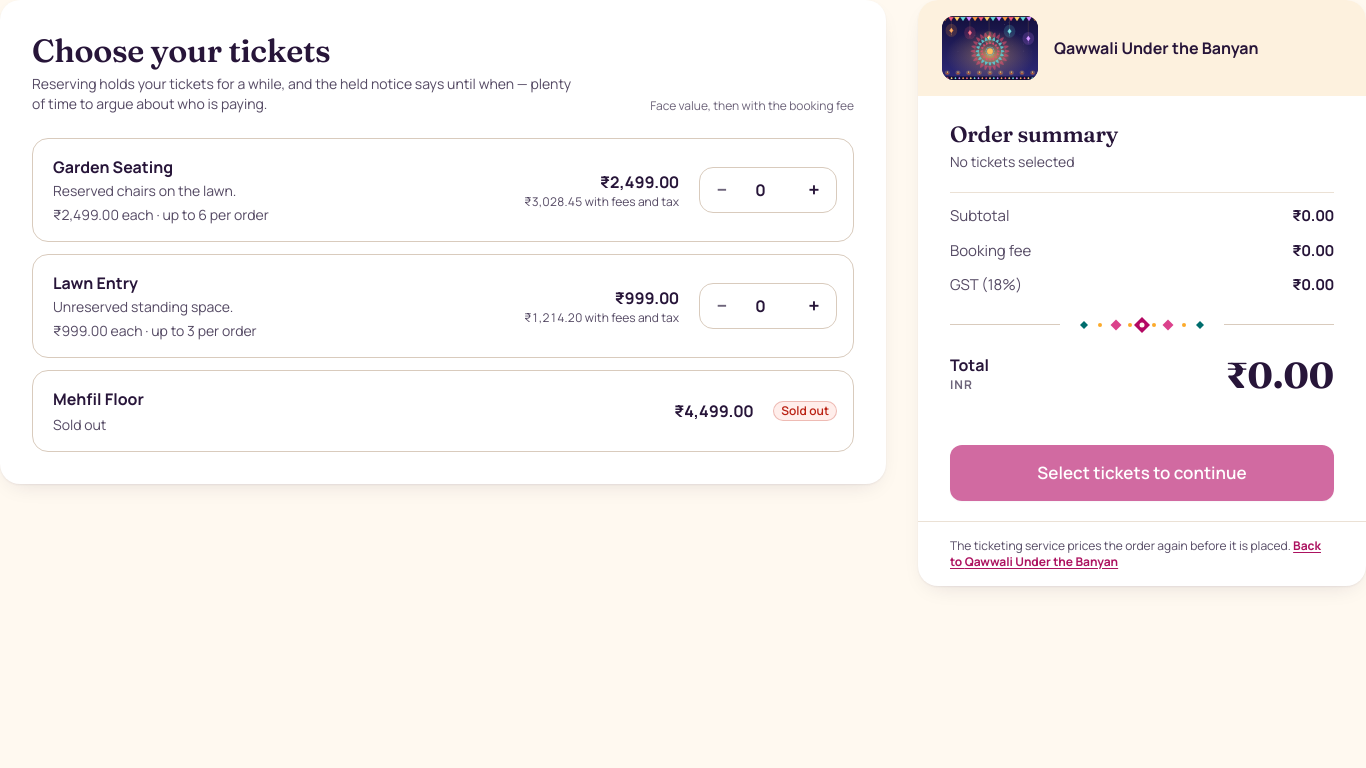
Test: CheckoutBasket › removes the line again when the quantity goes back to zero
The width and height of the screenshot is (1366, 768).
Click the button named "Add one Garden Seating": {"x": 814, "y": 190} [792,168,836,212]
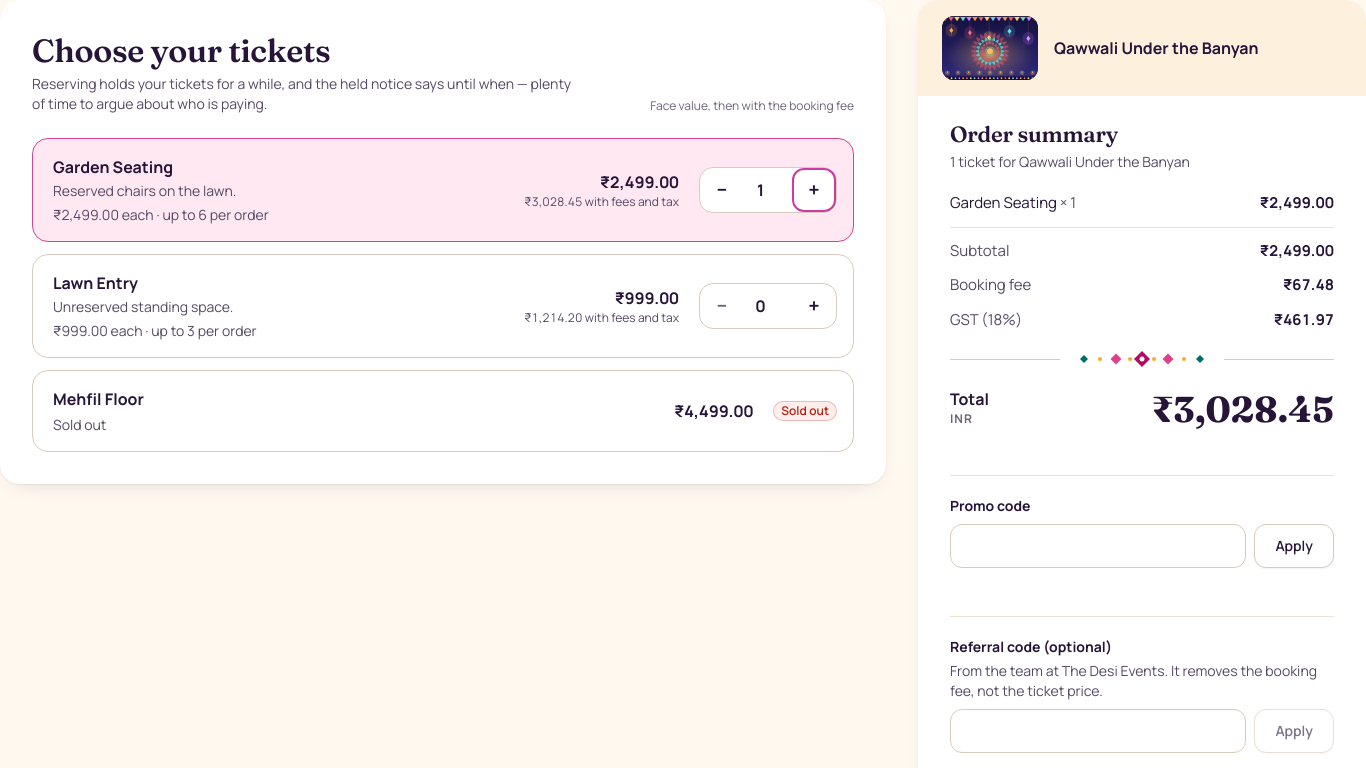
Click the button named "Remove one Garden Seating": {"x": 722, "y": 190} [700,168,744,212]
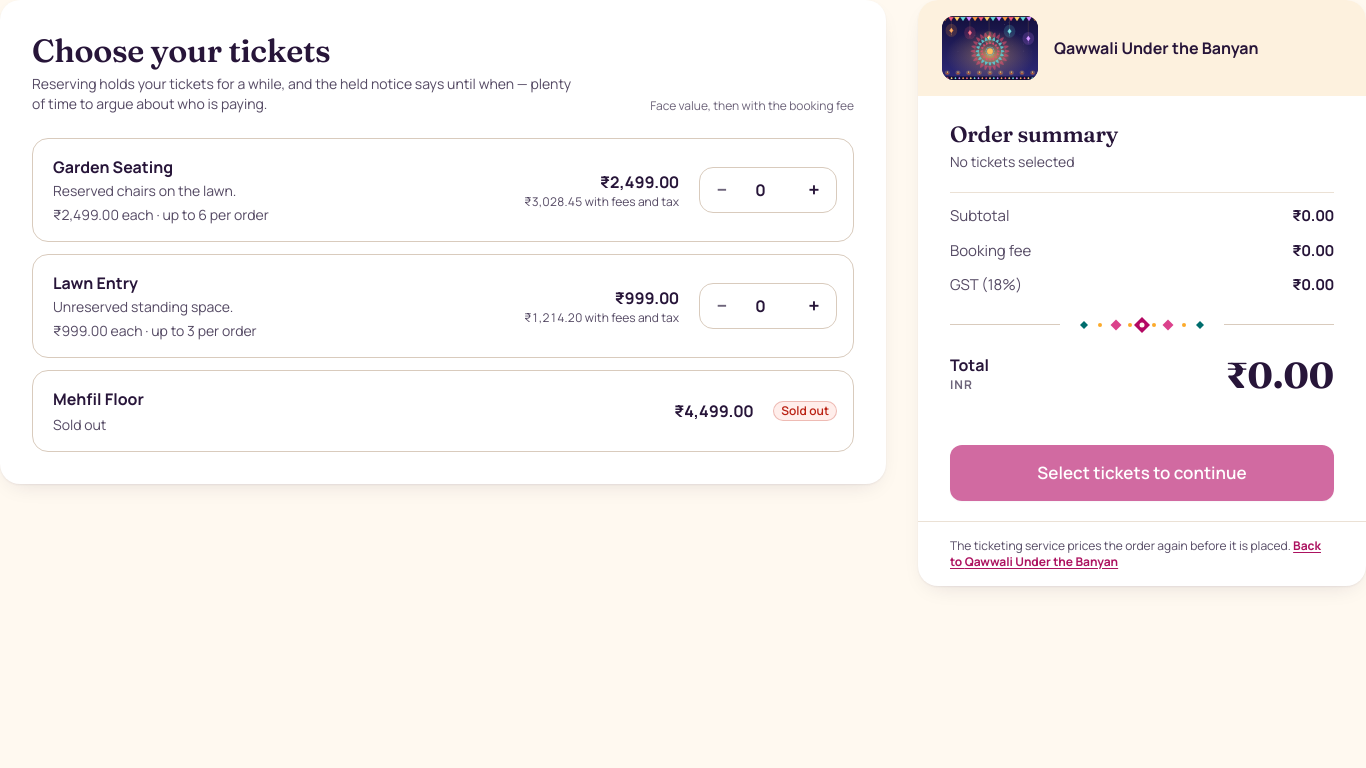
Check: the text "No tickets selected" is shown, box [950,152,1075,171]
Check: the text with test id "summary-total" reads "₹0.00", box [1226,352,1334,396]
